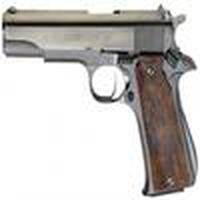gun: (5, 7, 194, 197)
